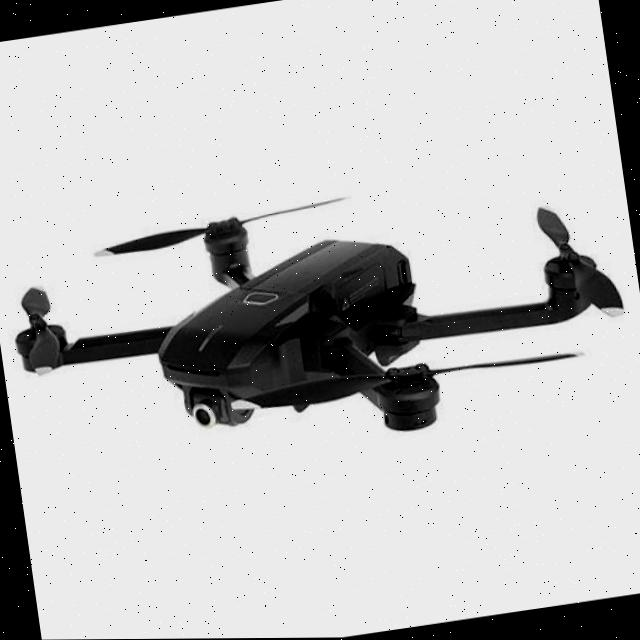drone: (0, 122, 640, 488)
